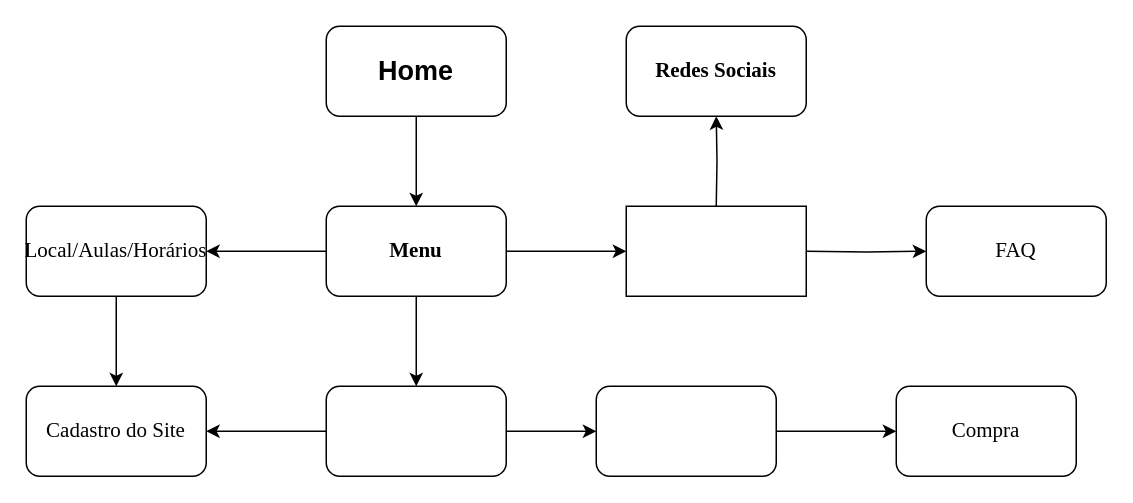
Image size: 1133x503. Some labels were removed from this diagram. Here are the shapes that lost their labels. From the top down, the centre of each, then its label:
At (715,250): "Links para redirecionamento".
At (415,430): "Produtos".
At (685,430): "Carrinho".
